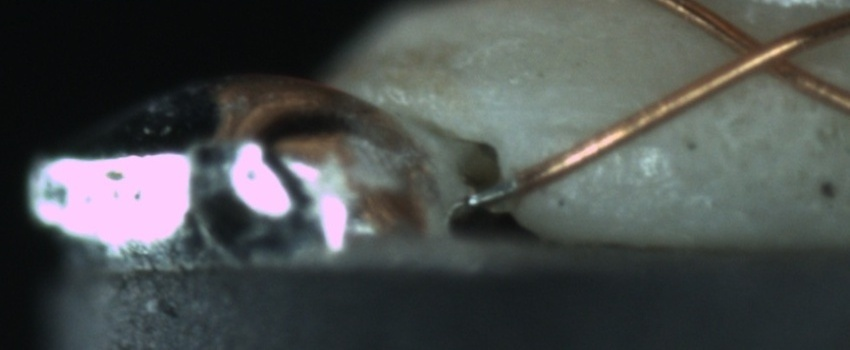CL: (711, 15, 817, 87)
DL: (513, 100, 645, 157)
TS: (467, 175, 523, 208)
TTCW: (467, 162, 552, 205)
